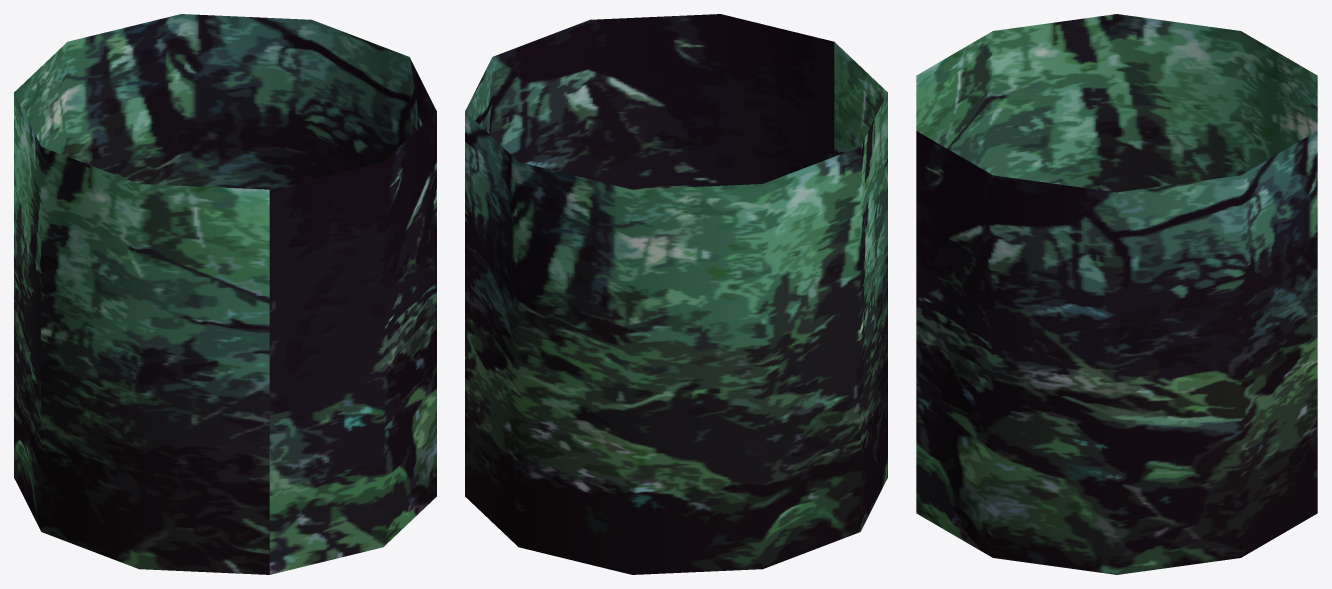
Rendered from environmentbox.fbx.
3 views of the same model, side by side, from view 1: azimuth 30°, elevation 25°; view 2: azimuth 150°, elevation 25°; view 3: azimuth 270°, elevation 25° (orthographic).
Parts seen in each view (by area): view 1: Environment; view 2: Environment; view 3: Environment.
Part boxes in pixels (<box>): Environment: <box>14,14,436,574</box>; Environment: <box>465,14,887,574</box>; Environment: <box>916,14,1317,574</box>.
Bounding box in the file's own units: 28.26 × 28.26 × 26.88.
